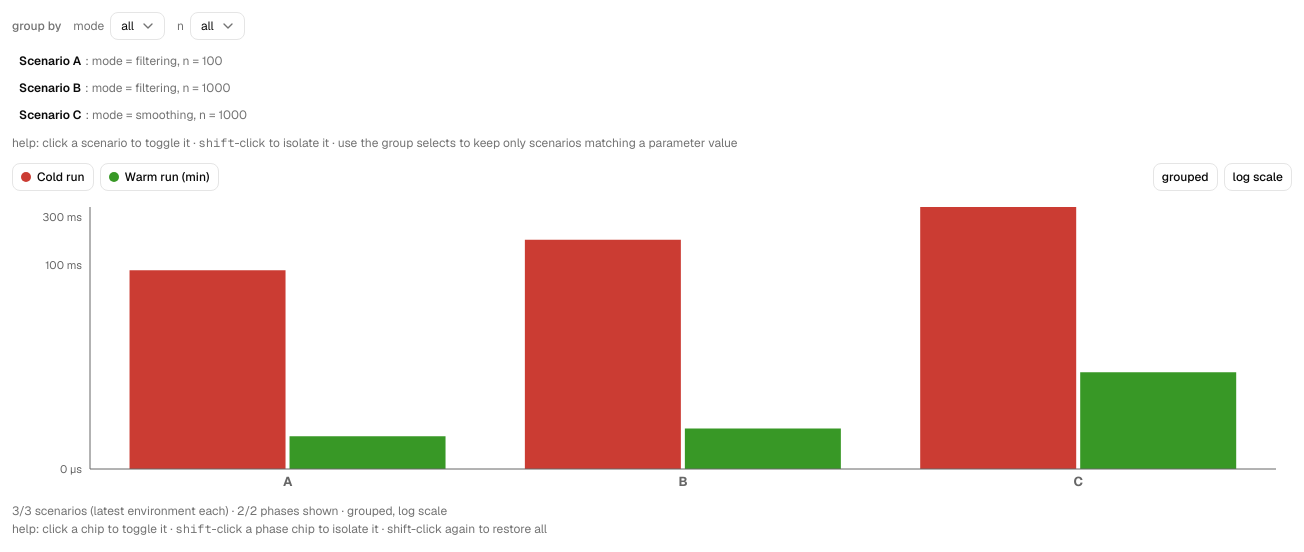
Test case: ScenarioCompareChart › offers numeric filters too (e.g. only n=1000)
Step 1. Click the dropdown named "filter by n" → point(217, 26), box 190,12 -> 245,40
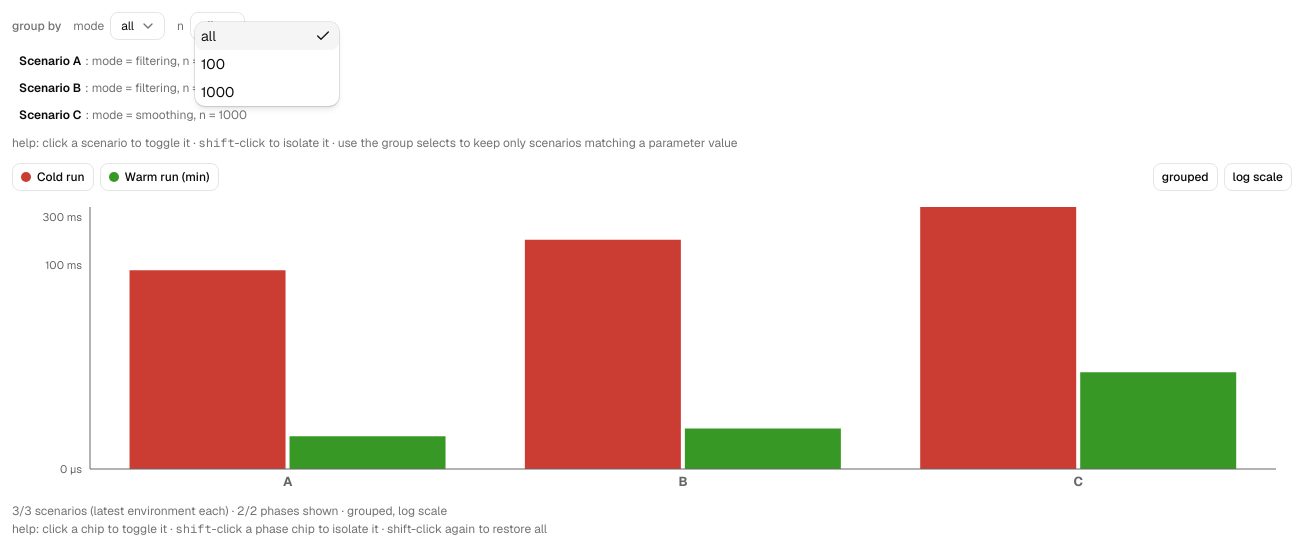
Step 2. Click the option "1000" → point(218, 92), box 201,83 -> 234,101
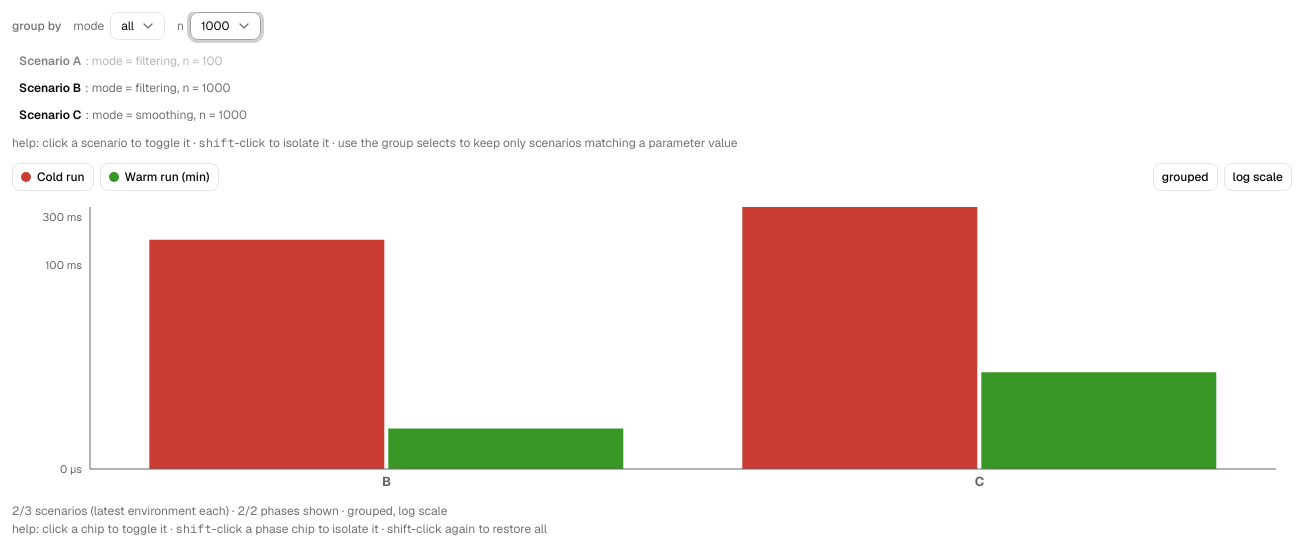
Now the text "2/3 scenarios" is shown, box 12,503 -> 229,519
